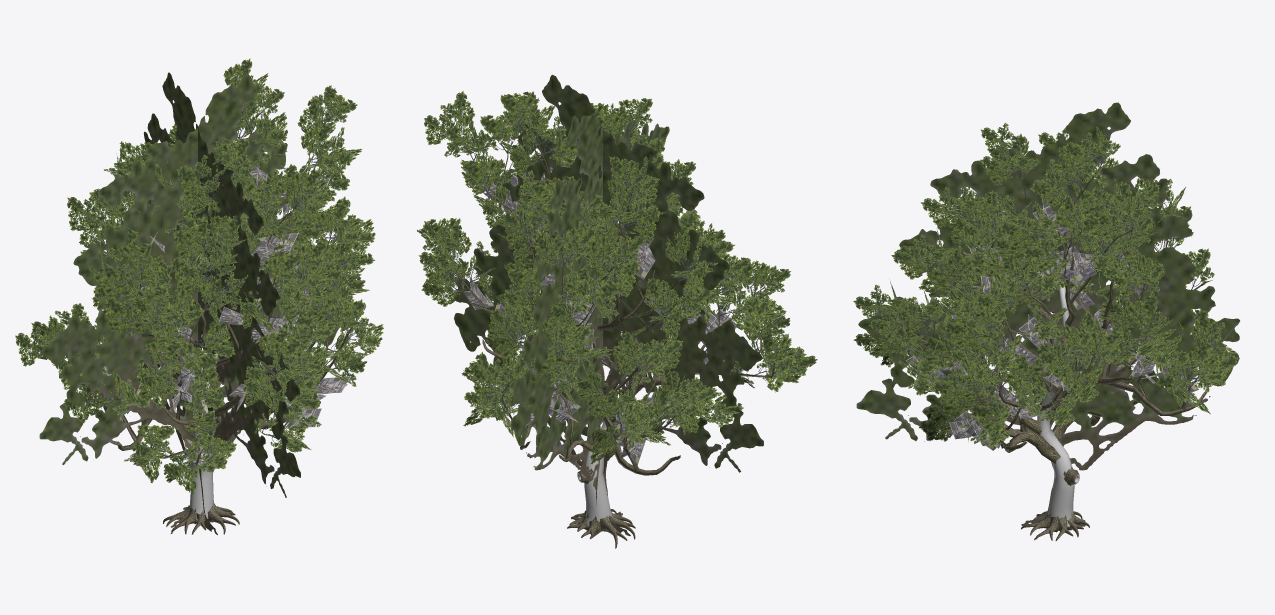
File: Tree-Oak5A.fbx
3 renders of one model, left to right at view 1: azimuth 30°, elevation 25°; view 2: azimuth 150°, elevation 25°; view 3: azimuth 270°, elevation 25°, orthographic. The views are drawn at different scales.
Parts seen in each view (by area): view 1: Tree-Oak5A_LOD0, Billboard-Oak5A; view 2: Tree-Oak5A_LOD0, Billboard-Oak5A; view 3: Tree-Oak5A_LOD0, Billboard-Oak5A.
Part boxes in pixels (x1=…): Tree-Oak5A_LOD0: x1=15, y1=58, x2=383, y2=534; Billboard-Oak5A: x1=39, y1=72, x2=338, y2=534; Tree-Oak5A_LOD0: x1=417, y1=91, x2=817, y2=548; Billboard-Oak5A: x1=454, y1=74, x2=763, y2=539; Tree-Oak5A_LOD0: x1=853, y1=122, x2=1238, y2=540; Billboard-Oak5A: x1=856, y1=102, x2=1239, y2=526.
Size of what is drawn, in the model's own units: 2763 by 3401 by 2886.
